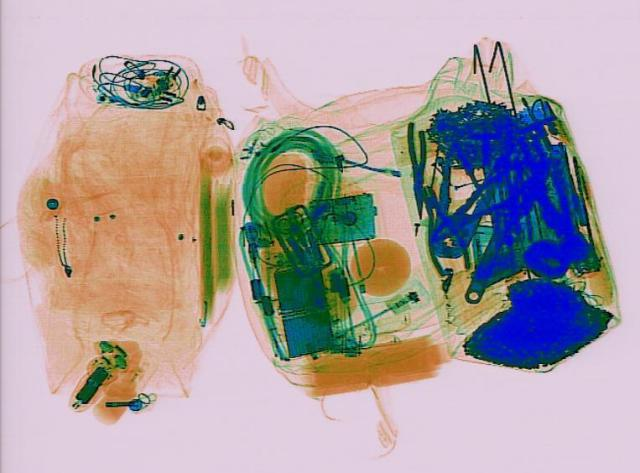Pliers: (414, 138, 508, 261), (408, 182, 474, 275), (402, 120, 432, 217)
